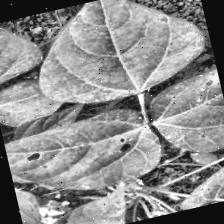ALS: (26, 0, 208, 110), (2, 100, 168, 209), (142, 61, 224, 156)
